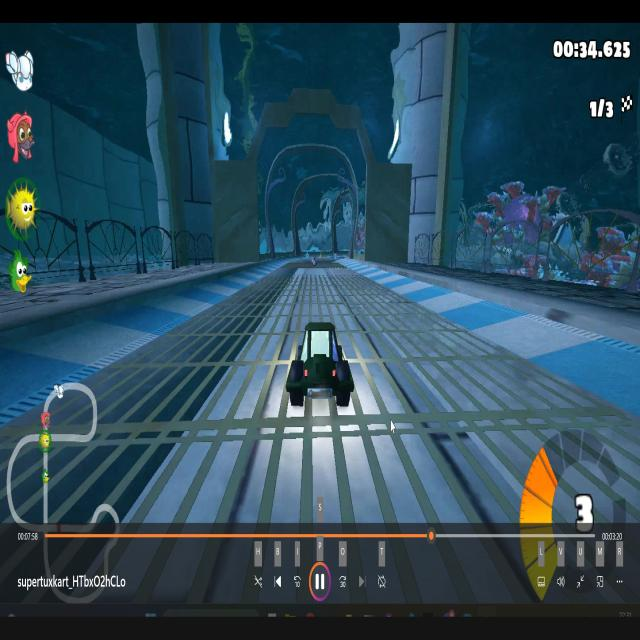off_track: (476, 299, 559, 349), (102, 303, 174, 334)
player_kart: (279, 310, 359, 410)
track: (180, 311, 272, 509), (373, 308, 458, 445), (278, 267, 366, 307)
